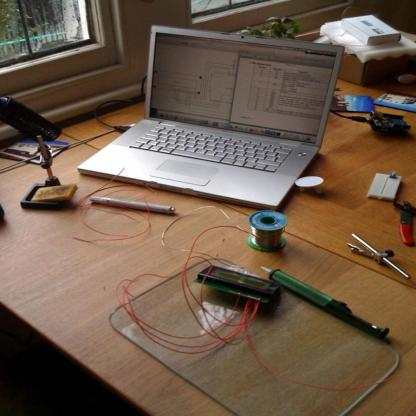board: (90, 24, 337, 208)
